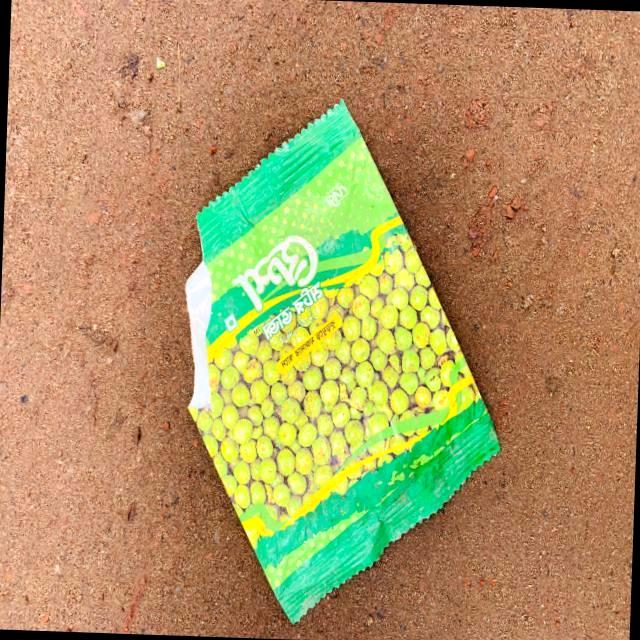packet: (193, 101, 488, 620)
